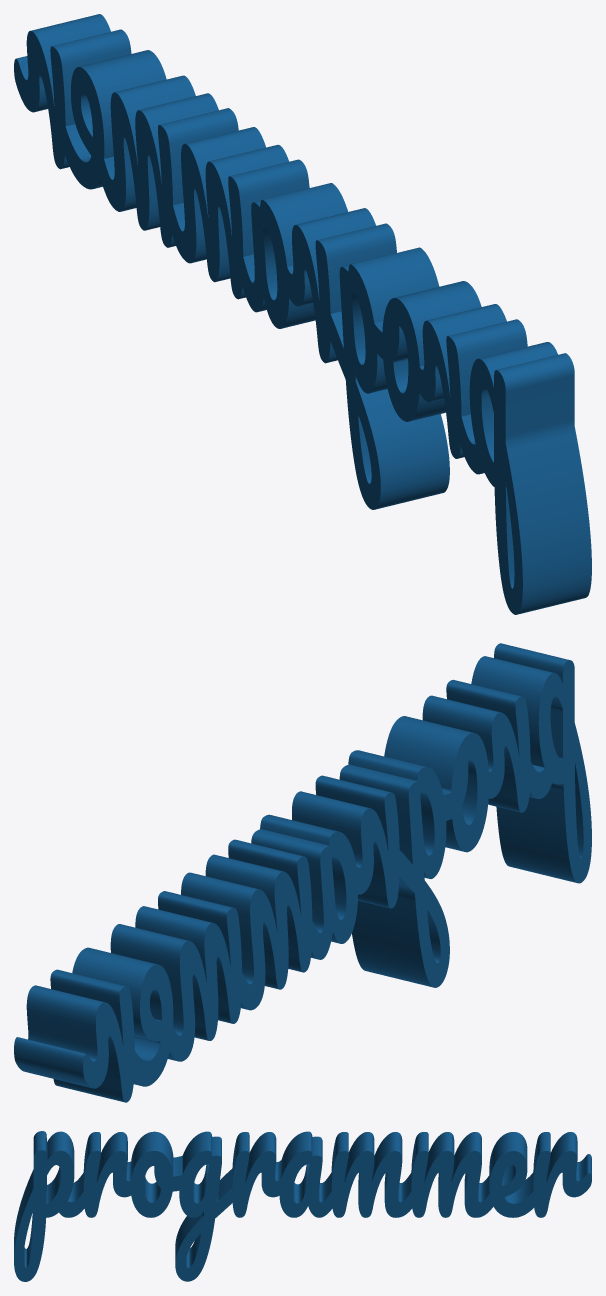
The model's file is subName.obj.
The picture shows the model from 3 angles, top to bottom: view 1: azimuth 30°, elevation 25°; view 2: azimuth 150°, elevation 25°; view 3: azimuth 270°, elevation 25°; orthographic projection. The views are drawn at different scales.
Parts seen in each view (by area): view 1: name.001_Text.001; view 2: name.001_Text.001; view 3: name.001_Text.001.
Boxes of the visible parts, x1,y1,x2,y2 form: name.001_Text.001: [14, 14, 591, 614]; name.001_Text.001: [14, 643, 591, 1102]; name.001_Text.001: [14, 1131, 591, 1281].
Bounding box in the file's own units: 0.12 × 0.3852 × 1.53.
